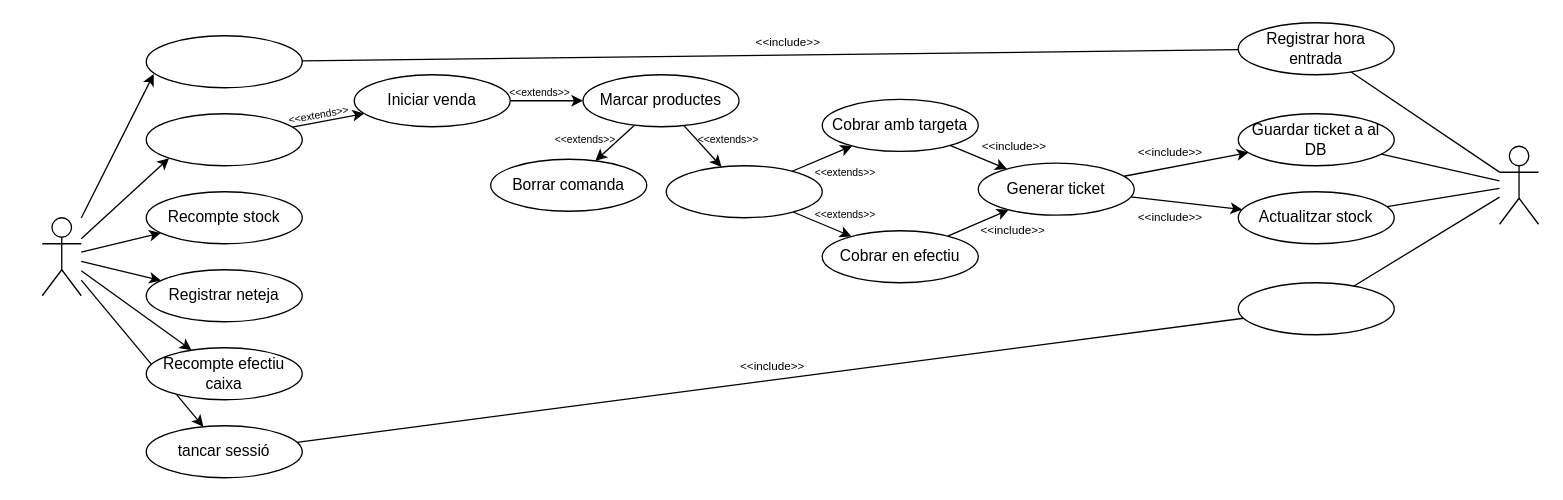
This 1563x500 diagram has some shape labels left out. The shapes that lost their labels are listed below. From the top down, each one's centre as x and y in pixels, then its label:
At [223,61]: "Iniciar sessió".
At [223,139]: "Visualitzar pantalla venda".
At [743,191]: "Cobrar al client".
At [1518,184]: "Sistema".
At [61,256]: "Treballador".
At [1315,308]: "Registrar hora sortida".
